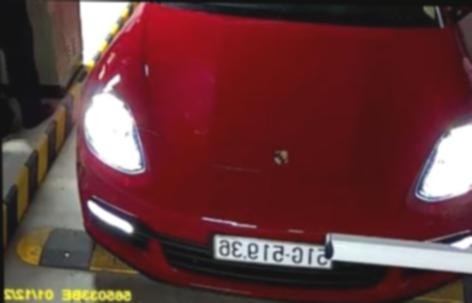License_Plate: (208, 235, 333, 270)
